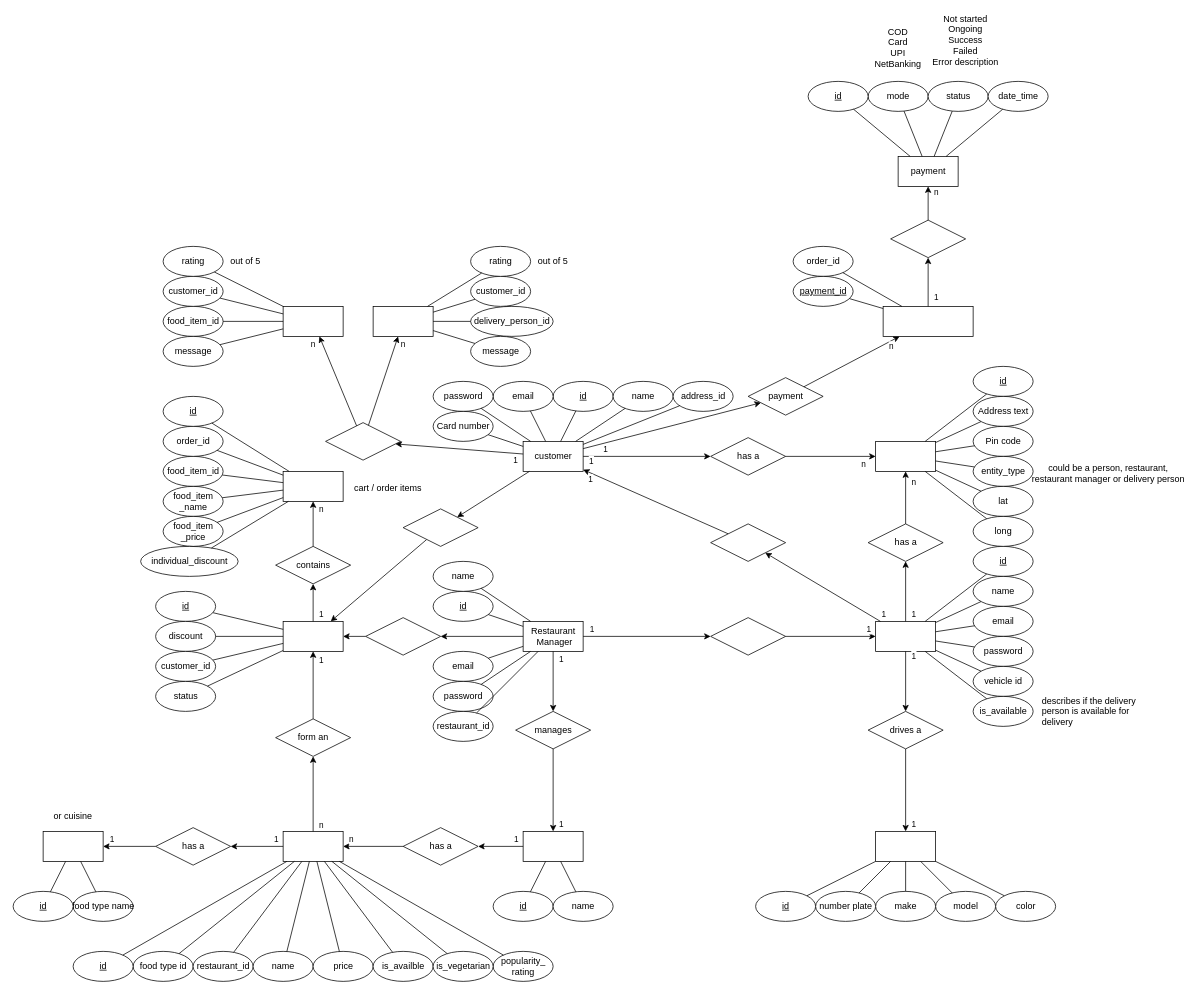
The diagram is 1197 pixels wide and 995 high, and some of its shapes have lost their labels. The shapes that lost their labels are listed below. From the top down, each one's centre as x and y in pixels, then its label:
the point at 928,238: references
the point at 312,321: Food Rating
the point at 402,321: Delivery Person Rating
the point at 927,321: cross_reference
the point at 363,441: rates a
the point at 905,456: address
the point at 312,486: Order _details
the point at 440,527: places
the point at 748,542: delivers order
the point at 312,636: Orders
the point at 403,636: completes
the point at 748,636: assigns delivery
the point at 905,636: Delivery Person
the point at 72,846: Food Type
the point at 312,846: Food Item (from the menu)
the point at 552,846: Restaurant
the point at 905,846: Vehicle
